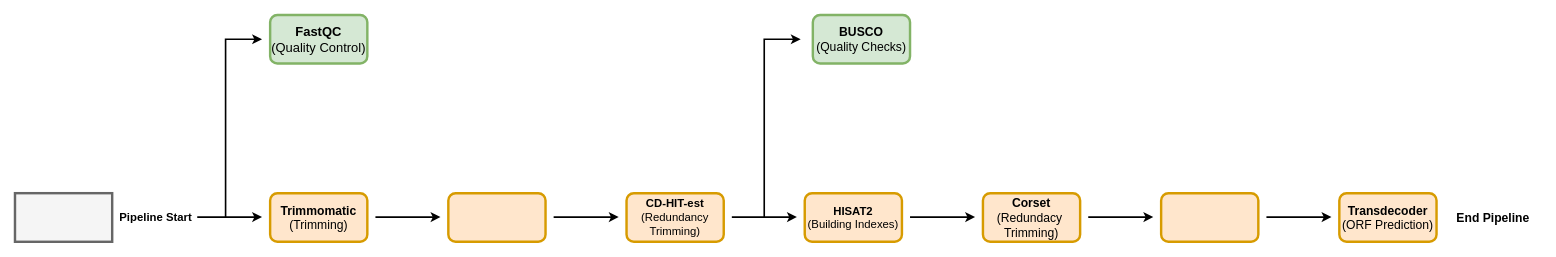
This 1556x257 diagram has some shape labels left out. The centre of each missing label's shape, as x and y in pixels:
BioPython (Fetch Cluster): (x=1209, y=217)
Raw Data: (x=63, y=217)
SPAdes (Assembly): (x=496, y=217)
